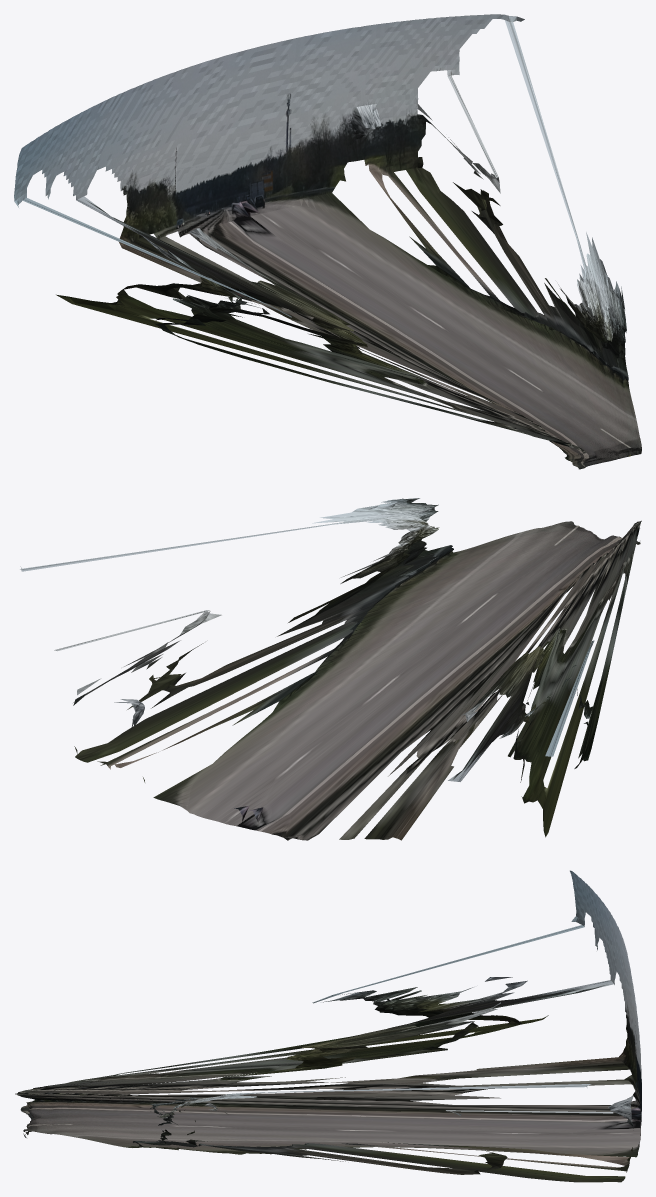
3 views of the same model, one above another, from view 1: azimuth 30°, elevation 25°; view 2: azimuth 150°, elevation 25°; view 3: azimuth 270°, elevation 25° (orthographic). The views are drawn at different scales.
Parts seen in each view (by area): view 1: defaultobject; view 2: defaultobject; view 3: defaultobject.
Boxes of the visible parts, x1,y1,x2,y2 form: defaultobject: (14,14,641,469); defaultobject: (20,498,641,840); defaultobject: (15,870,641,1182).
Bounding box in the file's own units: 37.42 × 12.45 × 45.14.
1 material, 1 textured.
